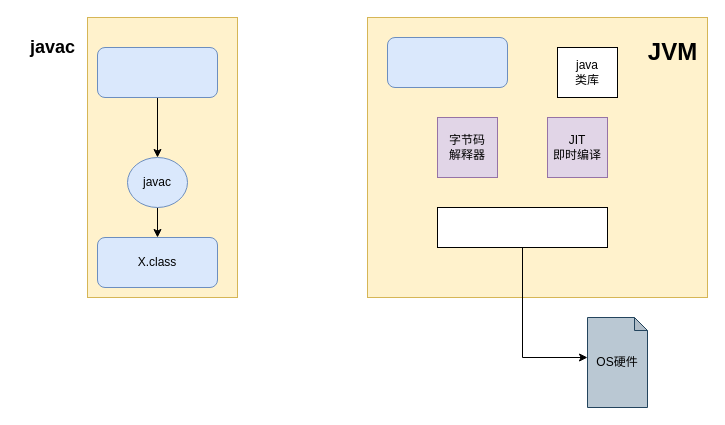
Some shapes in this 725 by 425 pixel diagram are drawn without their labels. The shapes that lost their labels are listed below. From the top down, each one's centre as x and y in pixels, then its label:
the point at 157,72: X.java
the point at 447,62: ClassLoader
the point at 522,227: 执行引擎
